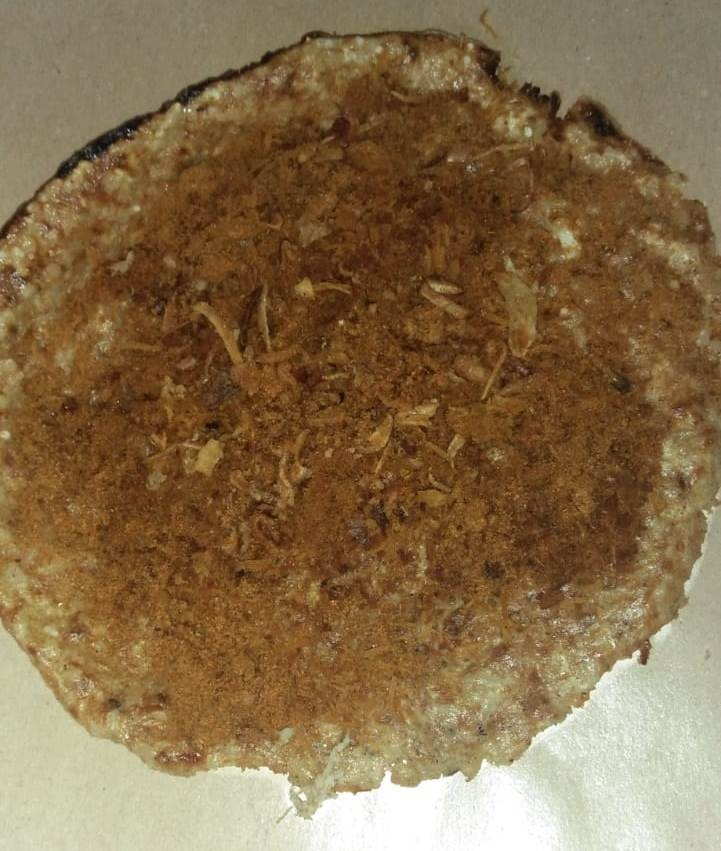kerak_telor: (1, 29, 721, 791)
